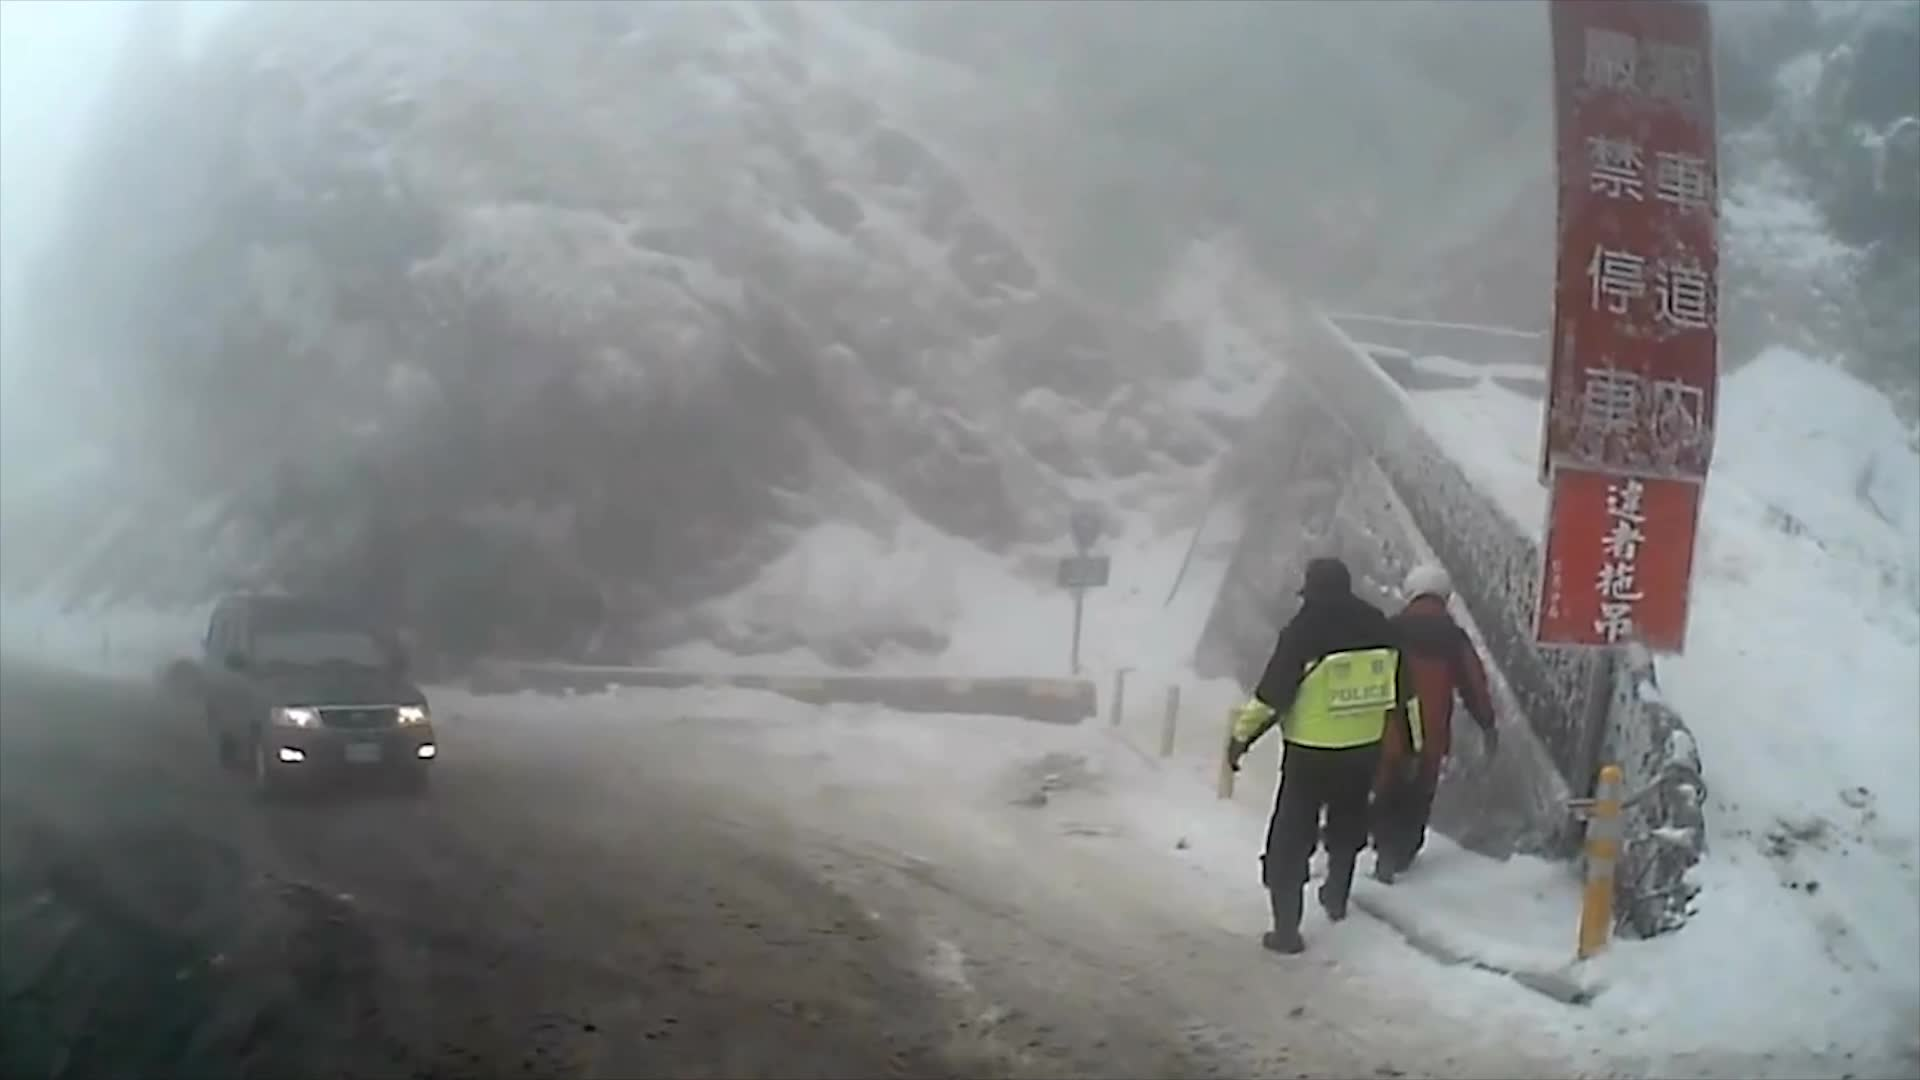pedestrian: (1221, 563, 1411, 962), (1363, 561, 1500, 884)
vehicle: (198, 594, 435, 801)
